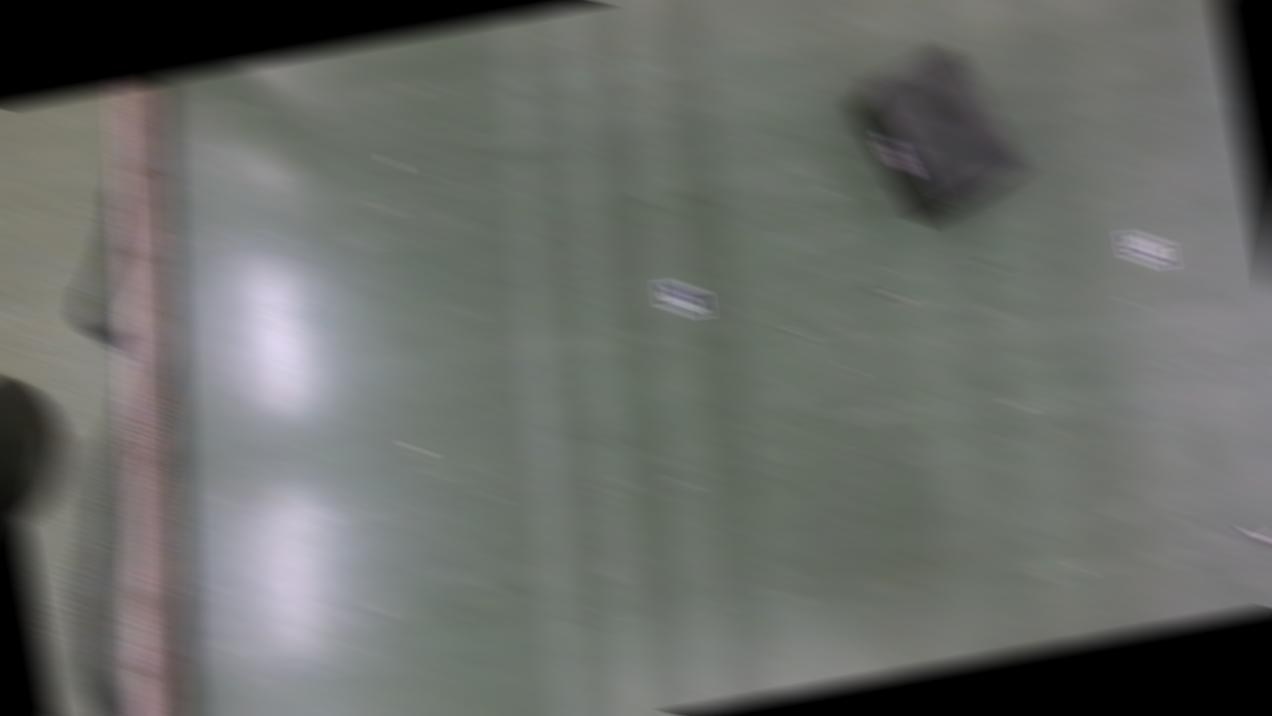probes: (1241, 517, 1272, 569)
rako: (838, 34, 1036, 236)
